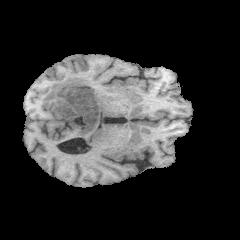glioma: (41, 77, 101, 137)
